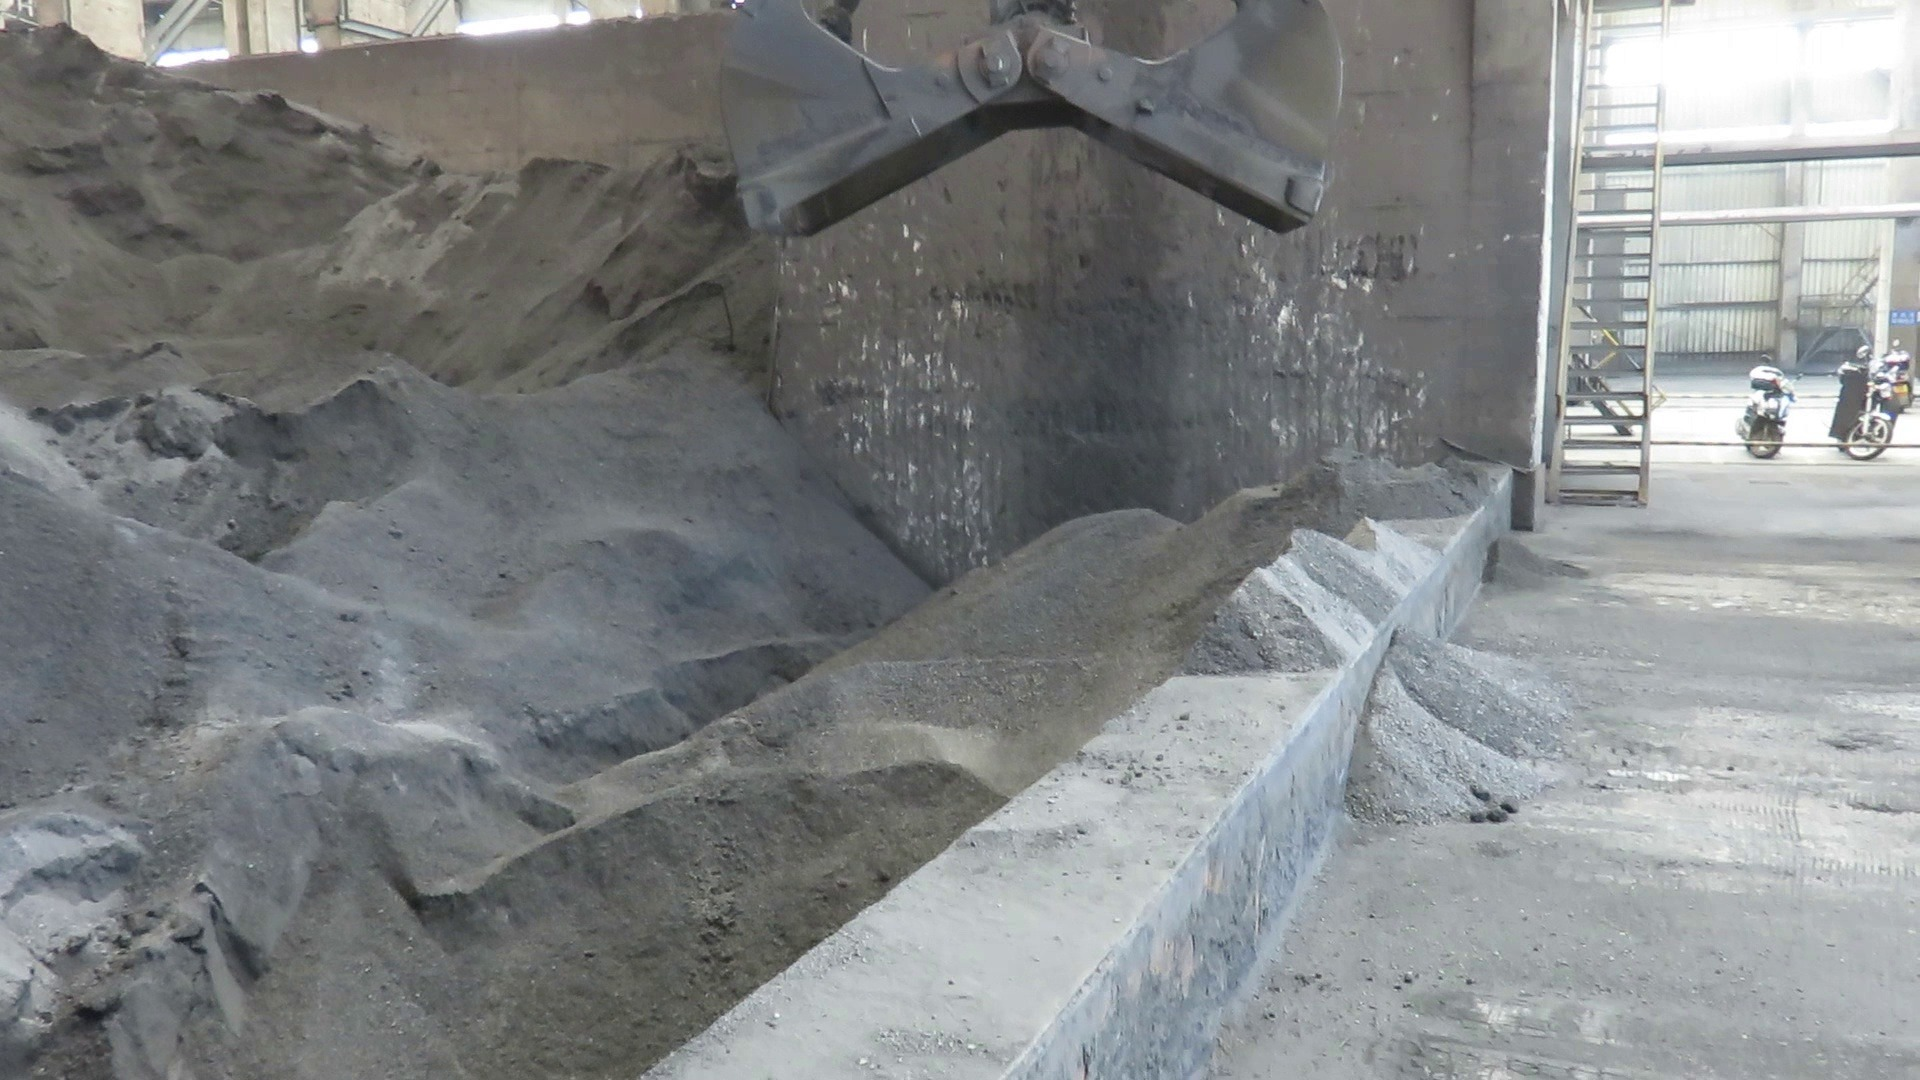grab: (705, 0, 1350, 237)
